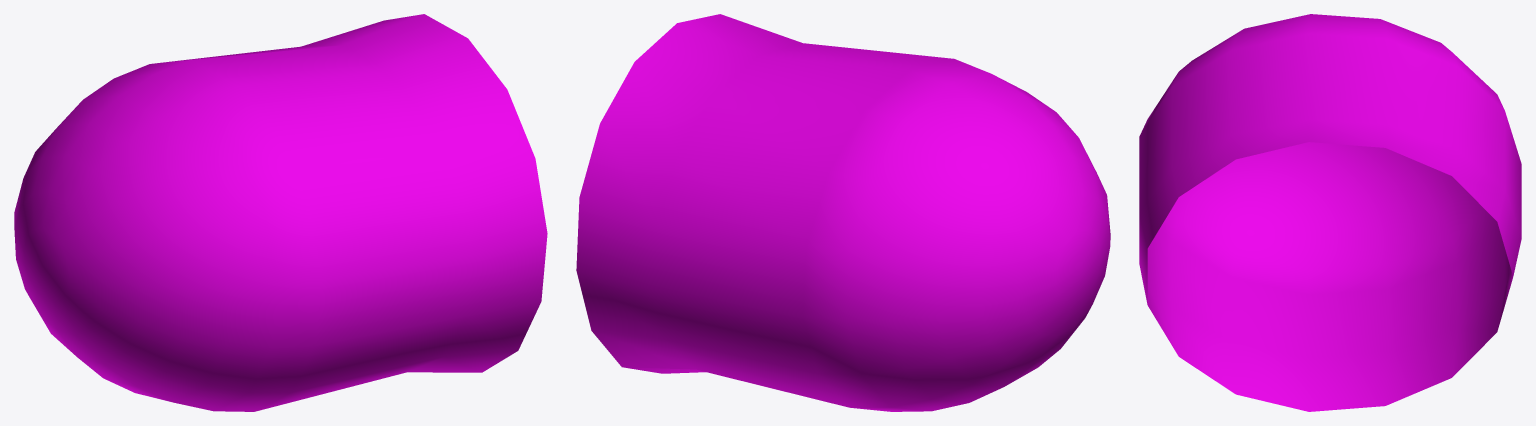
File: SpinnerSkurf.fbx
3 renders of one model, left to right at view 1: azimuth 30°, elevation 25°; view 2: azimuth 150°, elevation 25°; view 3: azimuth 270°, elevation 25°, orthographic. The views are drawn at different scales.
Visible parts, largest first — view 1: polySurface418; view 2: polySurface418; view 3: polySurface418.
Boxes of the visible parts, x1,y1,x2,y2 form: polySurface418: [14, 14, 547, 411]; polySurface418: [576, 14, 1110, 411]; polySurface418: [1139, 14, 1521, 411].
Size of the model in its own units: 0.0705 by 0.0532 by 0.0634.
